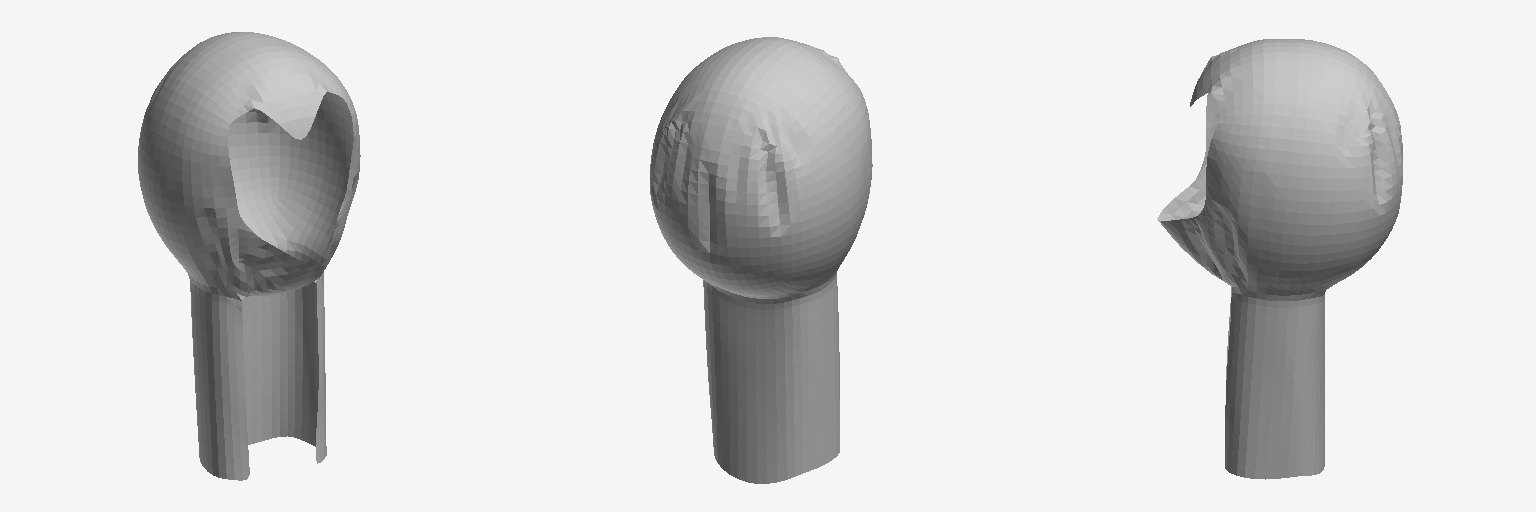
Rendered from skyjumper_cloak.obj.
3 views of the same model, side by side, from view 1: azimuth 30°, elevation 25°; view 2: azimuth 150°, elevation 25°; view 3: azimuth 270°, elevation 25° (orthographic).
Parts seen in each view (by area): view 1: Cloth_Cube; view 2: Cloth_Cube; view 3: Cloth_Cube.
Boxes of the visible parts, x1,y1,x2,y2 form: Cloth_Cube: [138, 32, 360, 480]; Cloth_Cube: [650, 37, 872, 483]; Cloth_Cube: [1157, 39, 1402, 479].
Size of the model in its own units: 7.94 by 17.03 by 9.05.